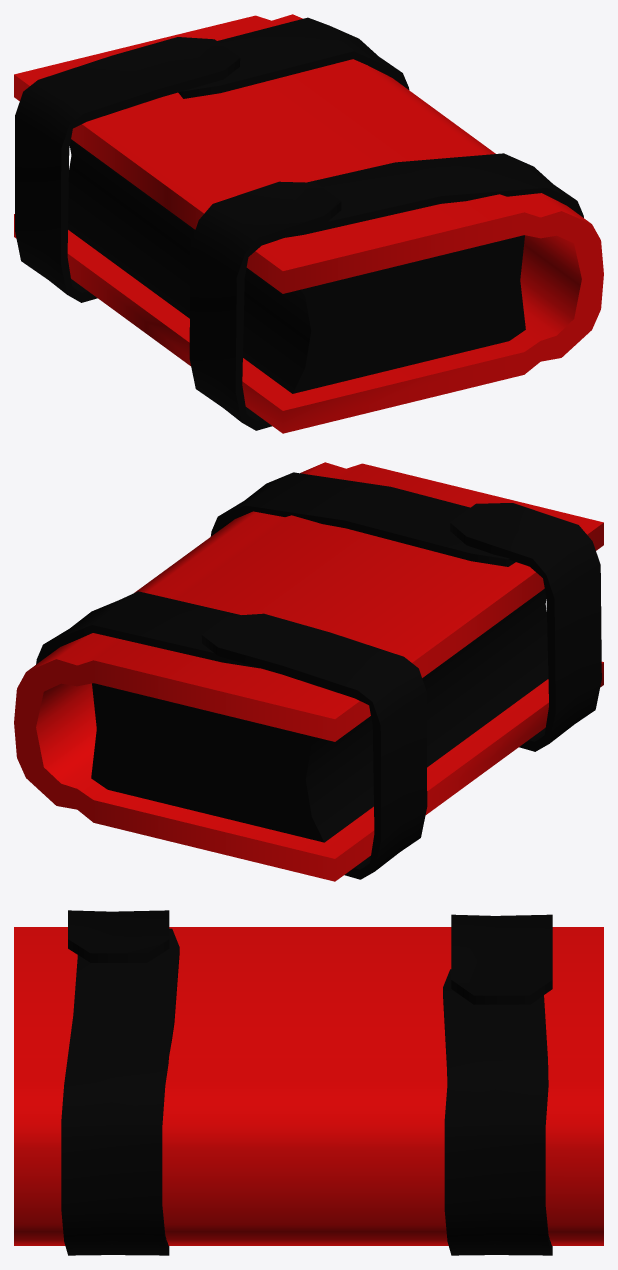
File: Book_B.fbx
3 renders of one model, top to bottom at view 1: azimuth 30°, elevation 25°; view 2: azimuth 150°, elevation 25°; view 3: azimuth 270°, elevation 25°, orthographic. The views are drawn at different scales.
Visible parts, largest first — view 1: U_Book_B; view 2: U_Book_B; view 3: U_Book_B.
Part boxes in pixels (left/top/right/bottom): U_Book_B: left=14, top=14, right=603, bottom=433; U_Book_B: left=14, top=462, right=603, bottom=881; U_Book_B: left=14, top=910, right=603, bottom=1255.
Bounding box in the file's own units: 44.59 × 23.82 × 58.45.
